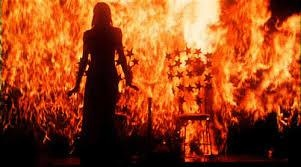fire: (81, 0, 297, 159), (1, 4, 96, 139)
